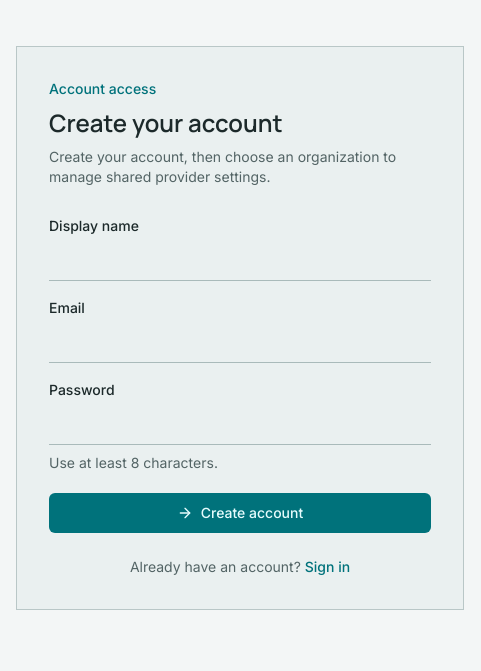
Scenario: registration route › shows request failures and prevents duplicate submissions while pending
In the field labelled "Display name": (240, 261) [49,241,431,281], type "Analyst One"
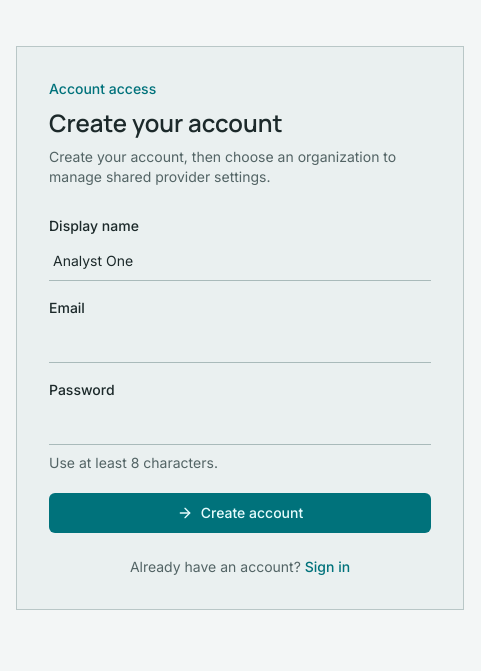
In the field labelled "Email": (240, 343) [49,323,431,363], type "analyst@example.com"
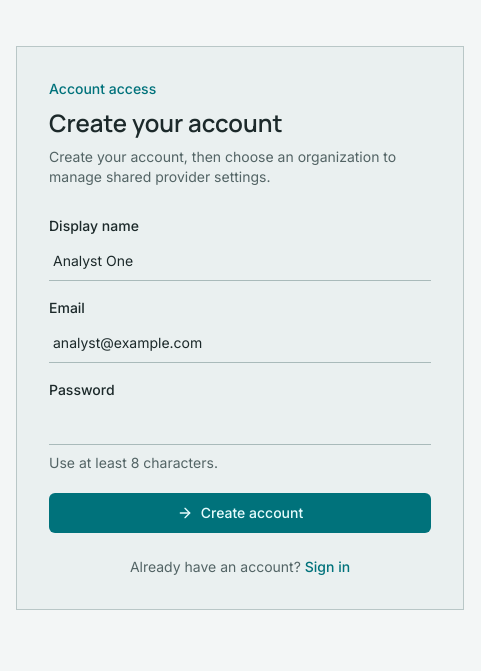
In the password field labelled "Password": (240, 425) [49,405,431,445], type "password123"
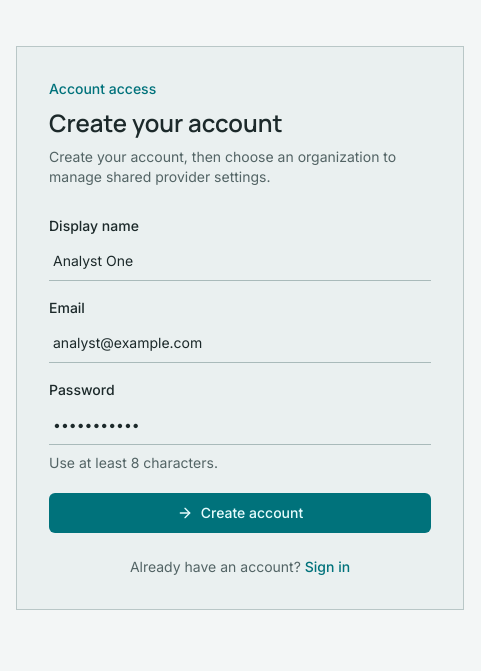
Click the button "Create account": click(240, 513) [49,493,431,533]
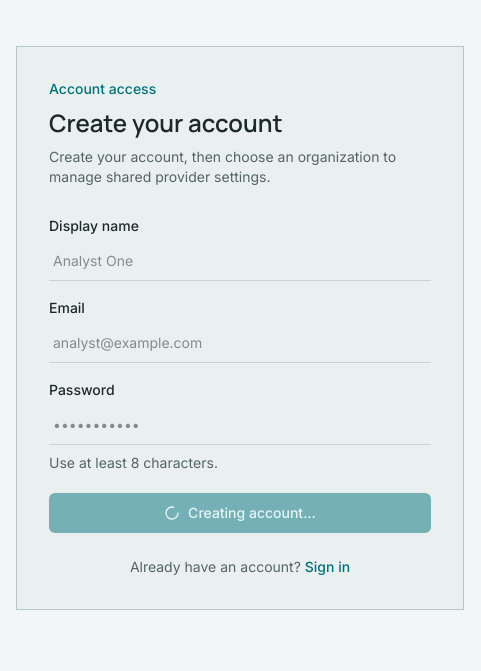
expect the button "Creating account..." is disabled: met
Click the button "Creating account...": click(240, 513) [49,493,431,533]
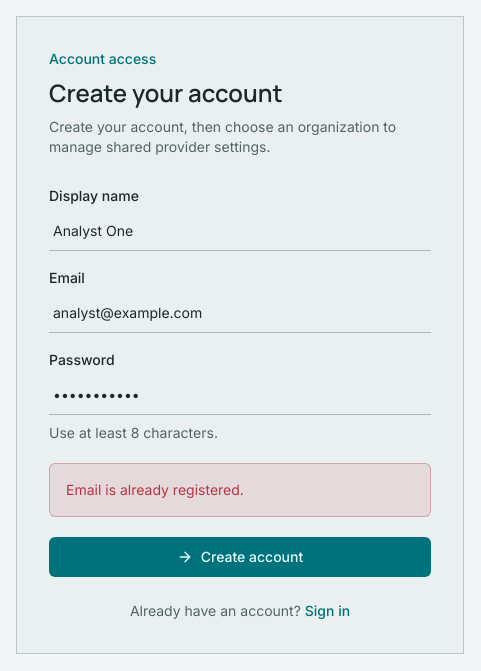
expect the message reads "Email is already registered.": met, box [66,481,244,498]
